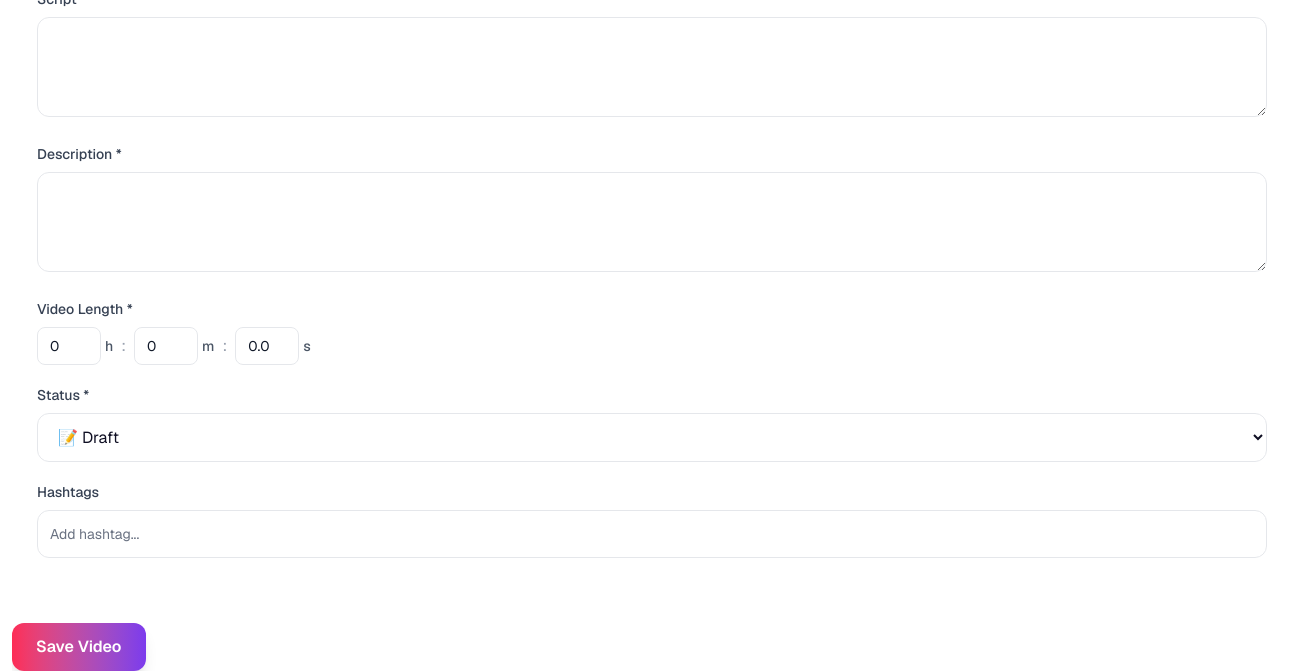
Test: VideoForm › should require title, script, and description
The width and height of the screenshot is (1292, 671).
(page scrolled)
Try to submit without filling required fields
Click the button "Save Video".
click(79, 647)  # box [12,623,146,670]
(page scrolled)
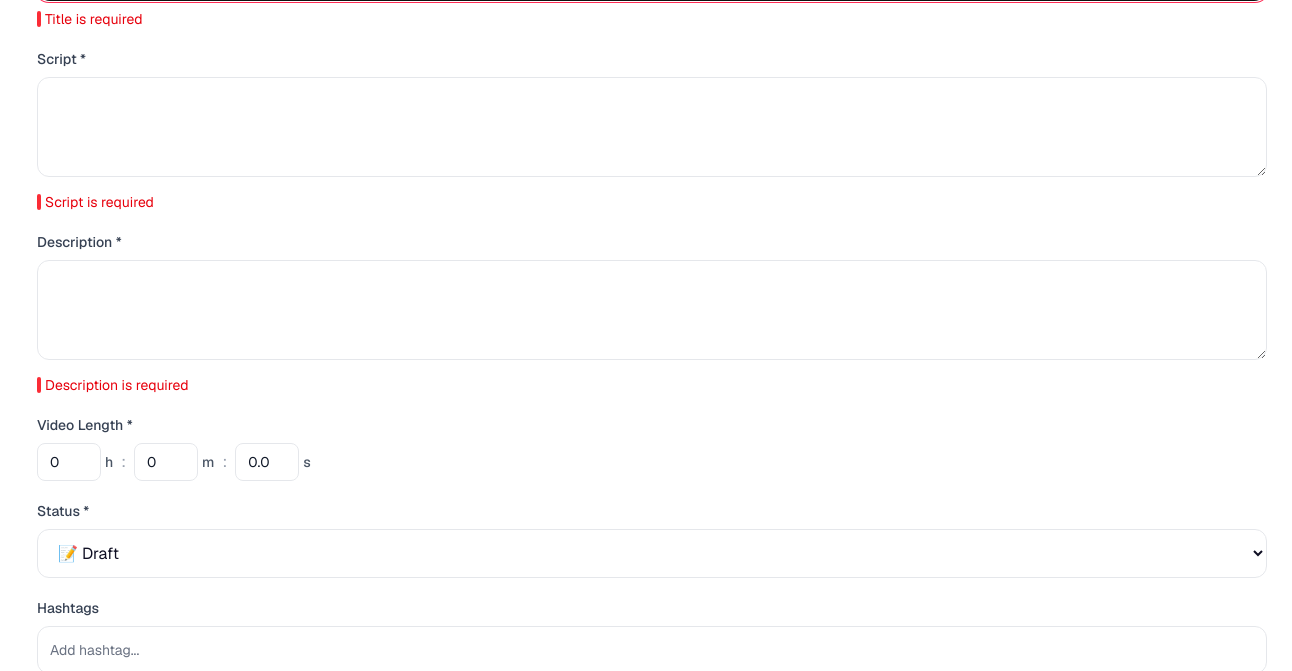
Now the text "Title is required" is shown, box [45,9,143,29]
Now the text "Script is required" is shown, box [45,192,154,212]
Now the text "Description is required" is shown, box [45,375,189,395]
